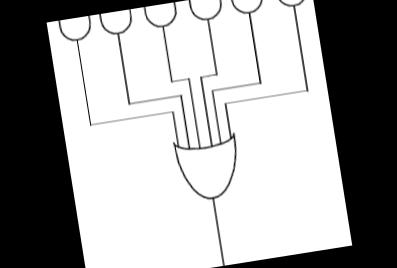and: (95, 8, 136, 40), (140, 2, 180, 32), (54, 16, 94, 44), (184, 0, 225, 24), (271, 0, 312, 10)
or: (168, 128, 246, 207)
